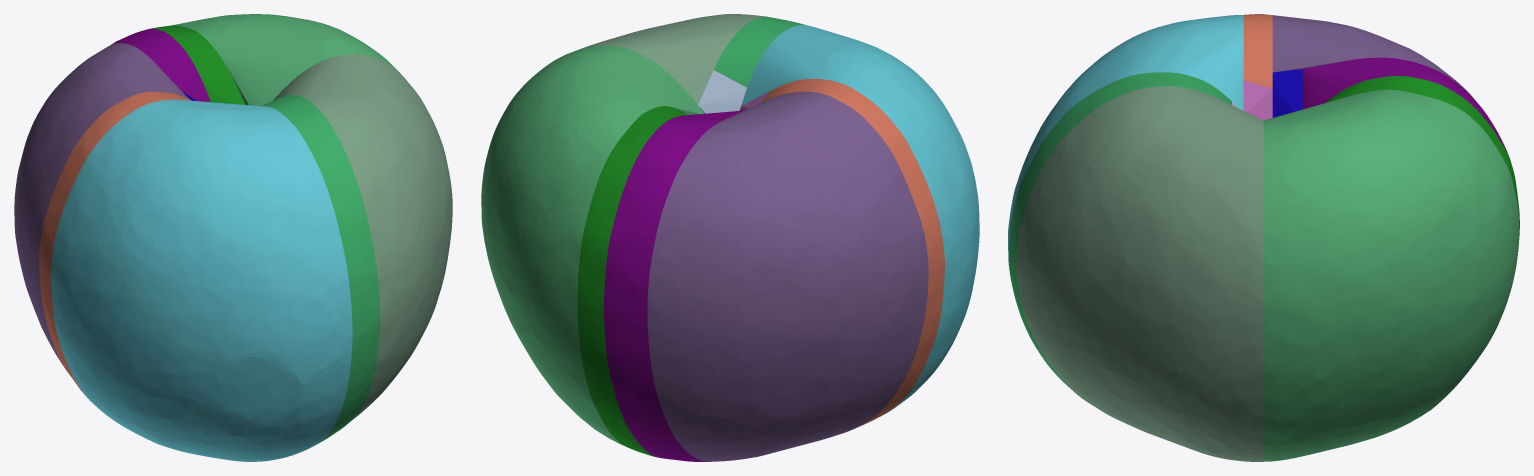
The model's file is coacd_collision.obj.
3 views of the same model, side by side, from view 1: azimuth 30°, elevation 25°; view 2: azimuth 150°, elevation 25°; view 3: azimuth 270°, elevation 25° (orthographic). The views are drawn at different scales.
Parts seen in each view (by area): view 1: geometry_2, geometry_0, geometry_1, geometry_10, geometry_3, geometry_9, geometry_11, geometry_8; view 2: geometry_1, geometry_3, geometry_2, geometry_11, geometry_8, geometry_9, geometry_0, geometry_10, geometry_6; view 3: geometry_3, geometry_0, geometry_2, geometry_1, geometry_10, geometry_11, geometry_8, geometry_9, geometry_5, geometry_7.
Boxes of the visible parts, <box> form: geometry_2: <box>51,99,352,461</box>; geometry_0: <box>272,54,452,420</box>; geometry_1: <box>14,43,189,374</box>; geometry_10: <box>262,94,380,443</box>; geometry_3: <box>173,14,400,105</box>; geometry_9: <box>39,91,191,395</box>; geometry_11: <box>111,28,210,101</box>; geometry_8: <box>151,25,244,104</box>; geometry_1: <box>647,91,928,461</box>; geometry_3: <box>481,45,703,446</box>; geometry_2: <box>741,25,979,414</box>; geometry_11: <box>604,110,744,461</box>; geometry_8: <box>577,106,687,457</box>; geometry_9: <box>762,79,944,426</box>; geometry_0: <box>582,14,767,104</box>; geometry_10: <box>714,17,806,87</box>; geometry_6: <box>698,70,746,113</box>; geometry_3: <box>1263,89,1519,461</box>; geometry_0: <box>1016,86,1263,461</box>; geometry_2: <box>1008,15,1243,285</box>; geometry_1: <box>1272,15,1475,100</box>; geometry_10: <box>1008,72,1231,405</box>; geometry_11: <box>1302,57,1510,159</box>; geometry_8: <box>1325,76,1519,257</box>; geometry_9: <box>1243,14,1272,88</box>; geometry_5: <box>1272,69,1302,117</box>; geometry_7: <box>1243,80,1272,120</box>.
Bounding box in the file's own units: 78.07 × 64.35 × 82.94.
